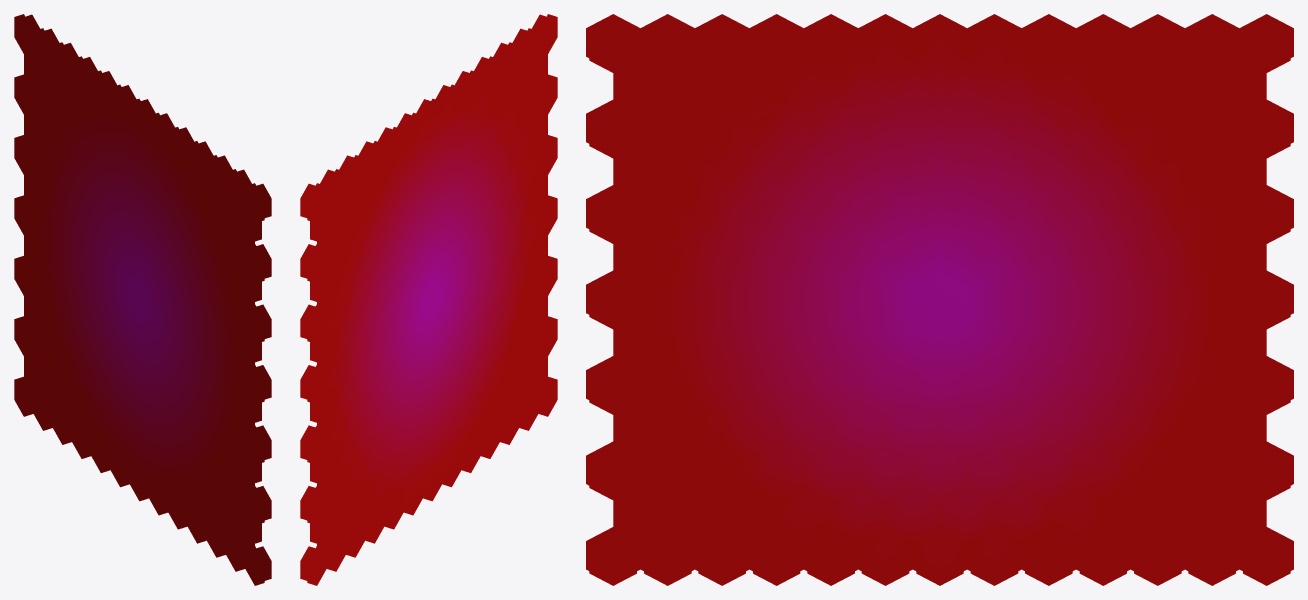
The model's file is WallFx_03.fbx.
3 renders of one model, left to right at view 1: azimuth 30°, elevation 25°; view 2: azimuth 150°, elevation 25°; view 3: azimuth 270°, elevation 25°, orthographic. The views are drawn at different scales.
Visible parts, largest first — view 1: transform1; view 2: transform1; view 3: transform1.
Part boxes in pixels (box(x1,y1,x2,y2)): transform1: box(14, 14, 271, 585); transform1: box(300, 14, 557, 585); transform1: box(586, 14, 1293, 585).
Size of the model in its own units: 1 by 46.19 by 52.
